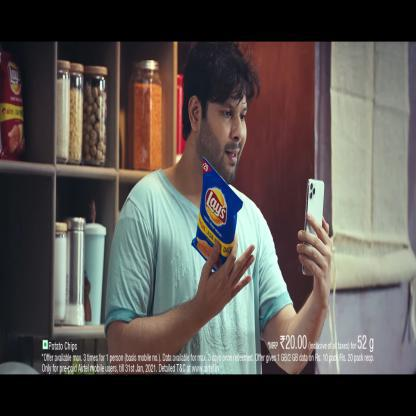indian_magic_masala: (195, 156, 241, 260)
